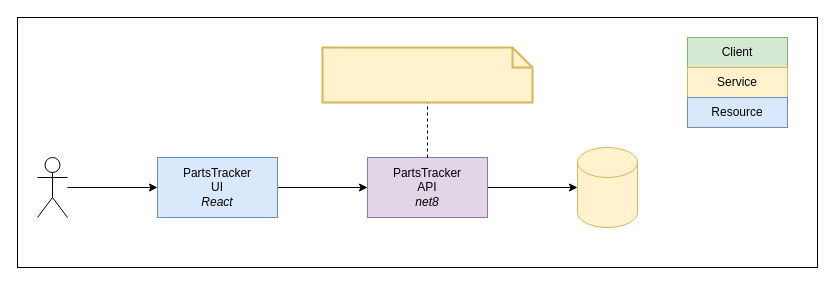
The diagram is 835 pixels wide and 285 high, and some of its shapes have lost their labels. Each missing label, with the centre of its shape:
PartsDB PostgreSQL: point 607,187
Service responsible for Resource Access (CRUD) operations.: point 427,74
User: point 52,187
